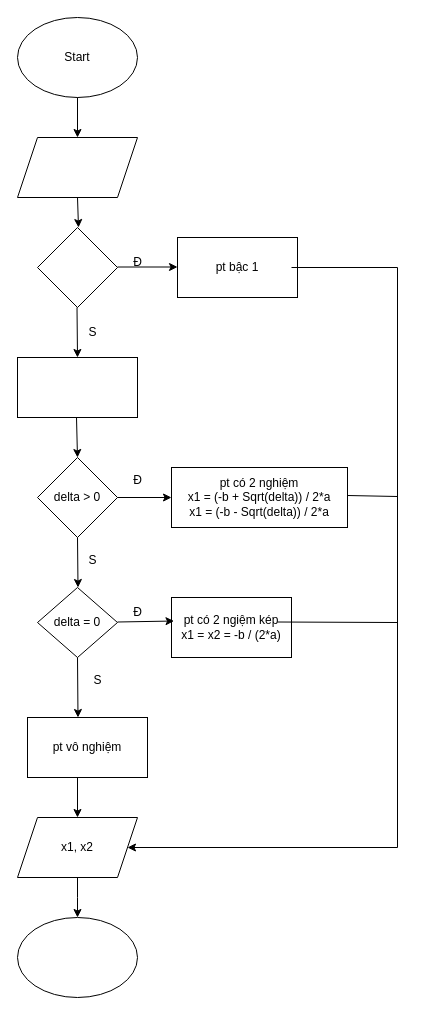
The diagram is 423 pixels wide and 1015 high, and some of its shapes have lost their labels. Each missing label, with the box of its shape:
a = 0: (36, 226, 118, 308)
a,b: (16, 136, 138, 198)
delta = b*b - 4*a*c: (16, 356, 138, 418)
End: (16, 916, 138, 998)
